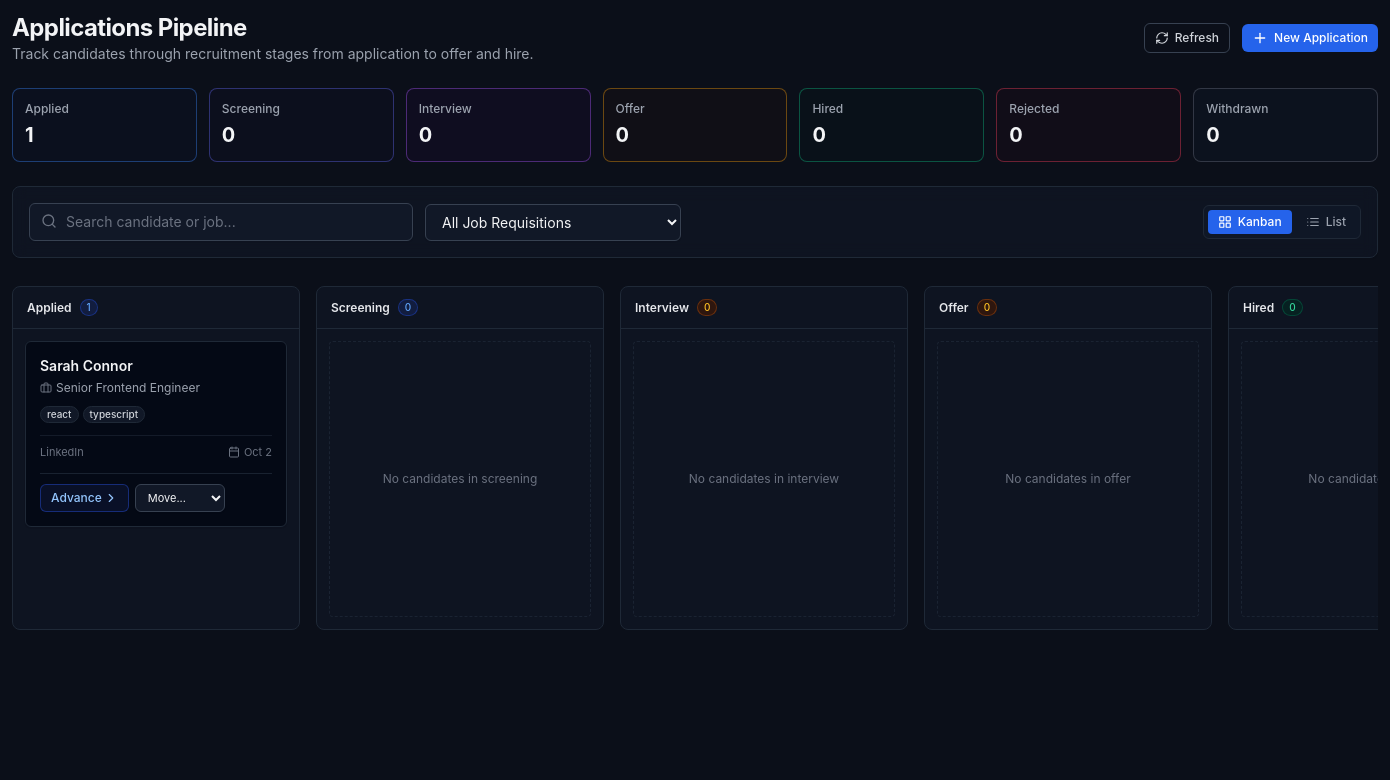
Scenario: Applications Page › toggles to list view
The image size is (1390, 780).
Expected: the link "Sarah Connor" is shown, [40, 356, 133, 376]
Step 1. Click the button "List" → (1326, 222), box [1296, 210, 1356, 234]
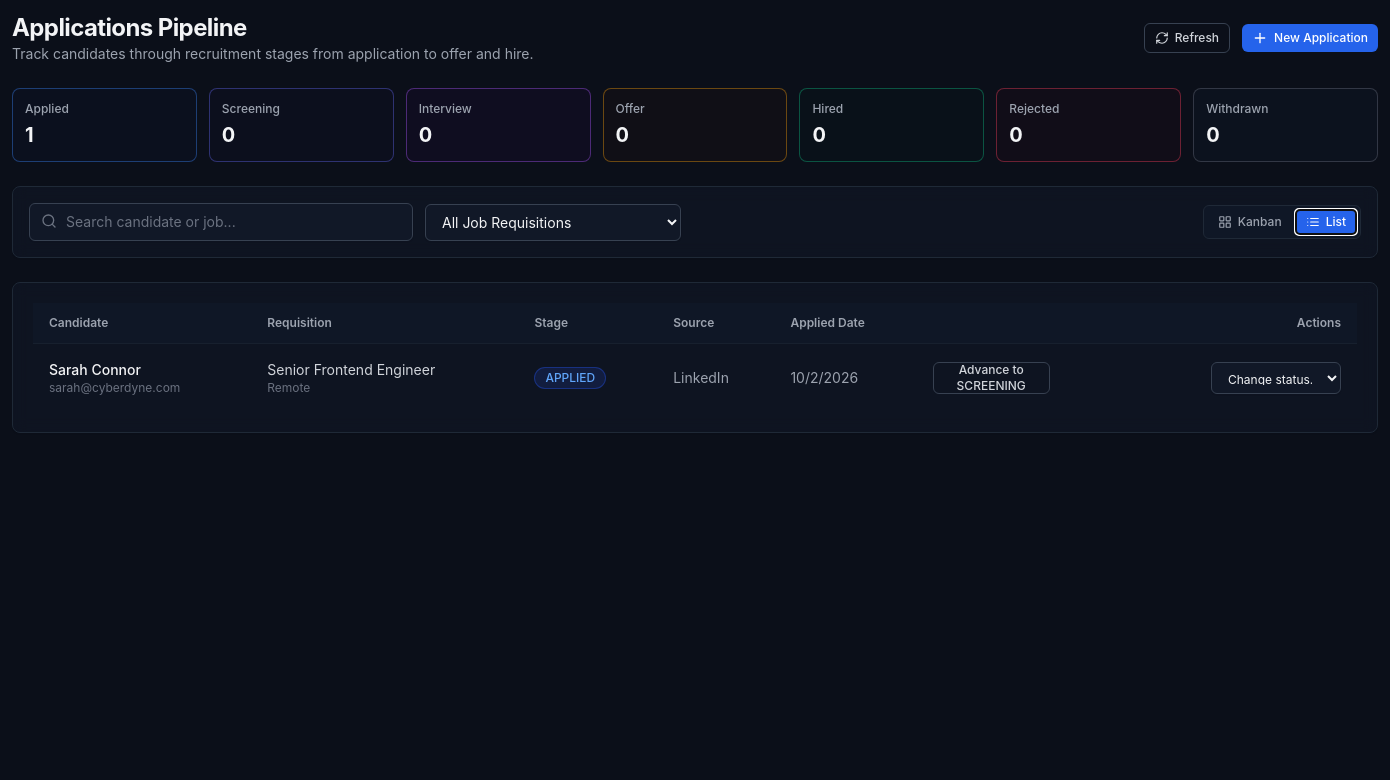
Now the column heading "Requisition" is shown, box [251, 303, 518, 343]
Now the column heading "Stage" is shown, box [518, 303, 657, 343]
